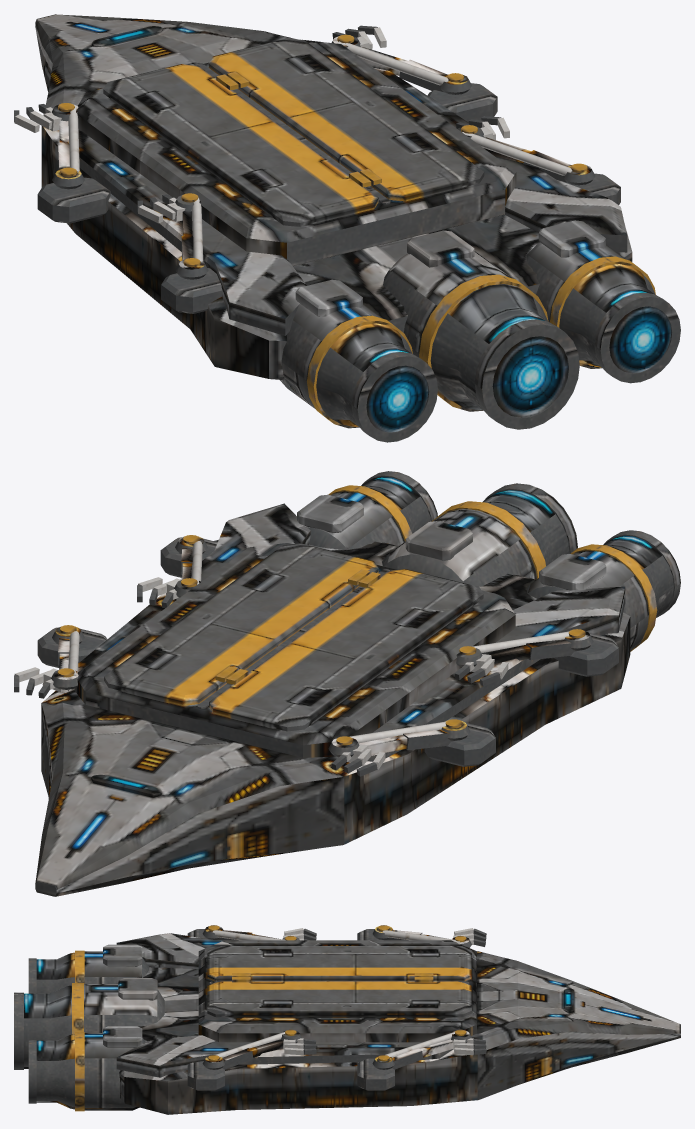
The model's file is combat-freighter.obj.
3 views of the same model, one above another, from view 1: azimuth 30°, elevation 25°; view 2: azimuth 150°, elevation 25°; view 3: azimuth 270°, elevation 25° (orthographic). The views are drawn at different scales.
Visible parts, largest first — view 1: hull.armored-wedge-and-keel, cargo.citadel, cargo.hold-door.port, cargo.hold-door.starboard, engine.centre.housing, armor.port.angled-skirt, engine.port.housing, engine.starboard.housing, armor.starboard.angled-skirt, engine.centre.exhaust, engine.centre.nozzle-rim, engine.port.exhaust (+16 smaller); view 2: hull.armored-wedge-and-keel, cargo.citadel, cargo.hold-door.port, cargo.hold-door.starboard, engine.centre.housing, armor.port.angled-skirt, armor.starboard.angled-skirt, engine.port.housing, engine.starboard.housing, armor.centre.engine-shield, armor.starboard.engine-shield, armor.port.engine-shield (+16 smaller); view 3: hull.armored-wedge-and-keel, cargo.hold-door.starboard, cargo.hold-door.port, cargo.citadel, armor.starboard.angled-skirt, engine.starboard.housing, engine.centre.housing, engine.port.housing, armor.port.angled-skirt, grapple.starboard.1.mount, grapple.starboard.2.mount, armor.port.engine-shield (+16 smaller).
Boxes of the visible parts, x1=… form: hull.armored-wedge-and-keel: x1=35, y1=14, x2=632, y2=379; cargo.citadel: x1=76, y1=39, x2=516, y2=266; cargo.hold-door.port: x1=103, y1=64, x2=378, y2=226; cargo.hold-door.starboard: x1=208, y1=38, x2=484, y2=201; engine.centre.housing: x1=383, y1=251, x2=547, y2=410; armor.port.angled-skirt: x1=78, y1=130, x2=306, y2=335; engine.port.housing: x1=280, y1=304, x2=412, y2=426; engine.starboard.housing: x1=526, y1=242, x2=655, y2=367; armor.starboard.angled-skirt: x1=374, y1=68, x2=627, y2=252; engine.centre.exhaust: x1=492, y1=336, x2=568, y2=417; engine.centre.nozzle-rim: x1=474, y1=319, x2=579, y2=429; engine.port.exhaust: x1=366, y1=365, x2=428, y2=432; hull.armored-wedge-and-keel: x1=35, y1=539, x2=630, y2=896; cargo.citadel: x1=74, y1=543, x2=515, y2=757; cargo.hold-door.port: x1=209, y1=569, x2=483, y2=731; cargo.hold-door.starboard: x1=104, y1=543, x2=378, y2=705; engine.centre.housing: x1=382, y1=490, x2=569, y2=586; armor.port.angled-skirt: x1=367, y1=586, x2=625, y2=761; armor.starboard.angled-skirt: x1=67, y1=503, x2=310, y2=691; engine.port.housing: x1=527, y1=535, x2=673, y2=650; engine.starboard.housing: x1=307, y1=476, x2=430, y2=549; armor.centre.engine-shield: x1=405, y1=521, x2=472, y2=560; armor.starboard.engine-shield: x1=297, y1=494, x2=363, y2=532; armor.port.engine-shield: x1=539, y1=554, x2=606, y2=590; hull.armored-wedge-and-keel: x1=119, y1=951, x2=680, y2=1114; cargo.hold-door.starboard: x1=207, y1=981, x2=471, y2=1017; cargo.hold-door.port: x1=207, y1=946, x2=471, y2=981; cargo.citadel: x1=198, y1=940, x2=476, y2=1042; armor.starboard.angled-skirt: x1=116, y1=1035, x2=453, y2=1077; engine.starboard.housing: x1=36, y1=1033, x2=145, y2=1110; engine.centre.housing: x1=24, y1=984, x2=164, y2=1068; engine.port.housing: x1=36, y1=951, x2=148, y2=993; armor.port.angled-skirt: x1=116, y1=933, x2=223, y2=968; grapple.starboard.1.mount: x1=357, y1=1058, x2=394, y2=1090; grapple.starboard.2.mount: x1=187, y1=1061, x2=224, y2=1090; armor.port.engine-shield: x1=103, y1=944, x2=142, y2=966.
Bounding box in the file's own units: 10.89 × 3.37 × 20.56.
Materials: 2 (2 with a texture image).
